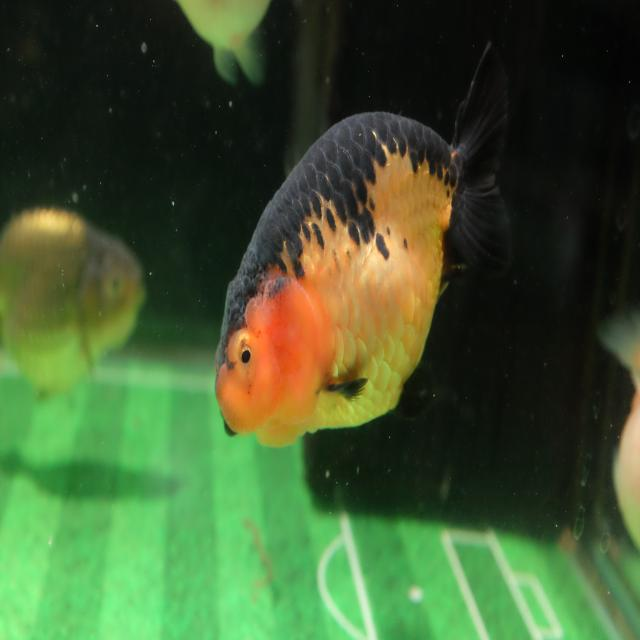Tilapia: (213, 40, 514, 452)
